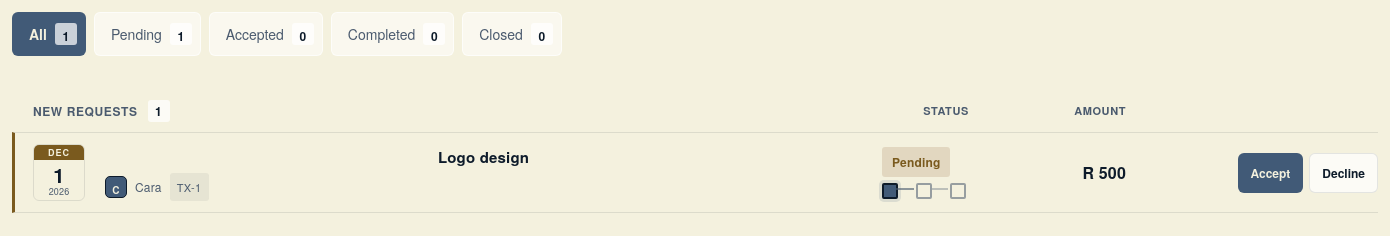
BookingsList status actions › shows the API reason when the change is rejected
Step 1. Click the button "Accept" → click(1270, 173), box 1238,153 -> 1303,193
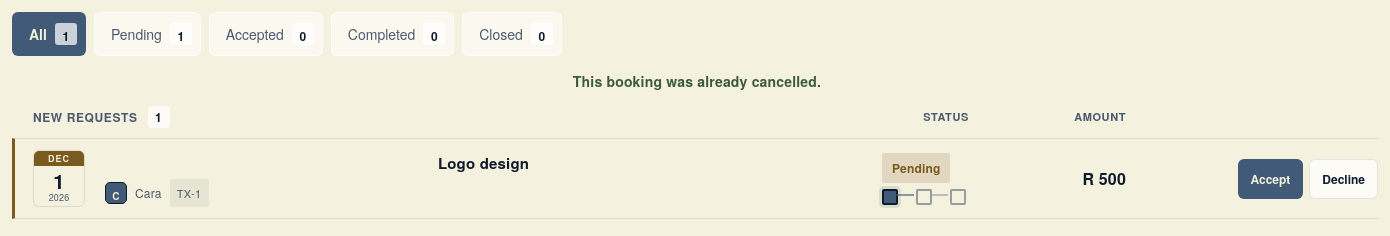
Expected: the text "This booking was already cancelled." is shown, 573,71 -> 821,91
